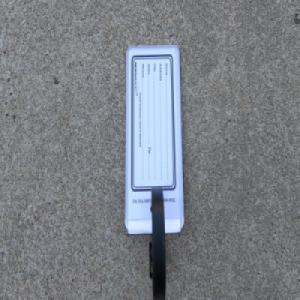LuggageTag: (124, 43, 185, 300)
